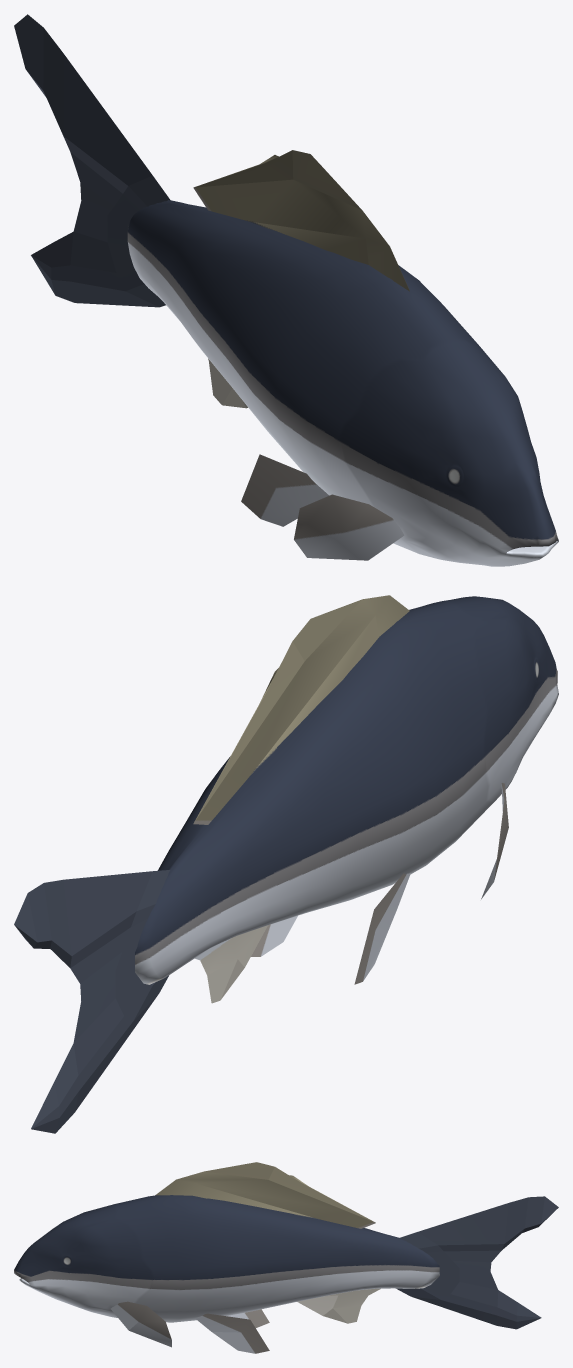
Rendered from fishtest.fbx.
3 views of the same model, one above another, from view 1: azimuth 30°, elevation 25°; view 2: azimuth 150°, elevation 25°; view 3: azimuth 270°, elevation 25° (orthographic). The views are drawn at different scales.
Parts seen in each view (by area): view 1: pPlane8; view 2: pPlane8; view 3: pPlane8.
Boxes of the visible parts, x1,y1,x2,y2 form: pPlane8: (14, 14, 558, 566); pPlane8: (14, 595, 558, 1133); pPlane8: (14, 1162, 558, 1353).
Bounding box in the file's own units: 102 × 172 × 474.
1 material, 1 textured.
